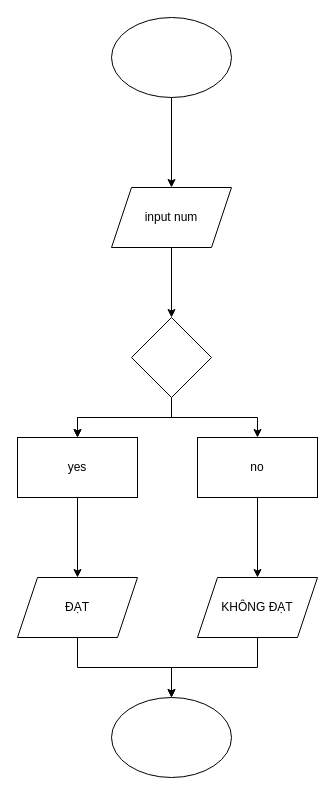
This 335x795 diagram has some shape labels left out. The box of each missing label's shape, as (x1, y1, x2, y2) in pixels:
END: (110, 696, 232, 778)
is num >=5?: (130, 316, 212, 398)
START: (110, 16, 232, 98)
